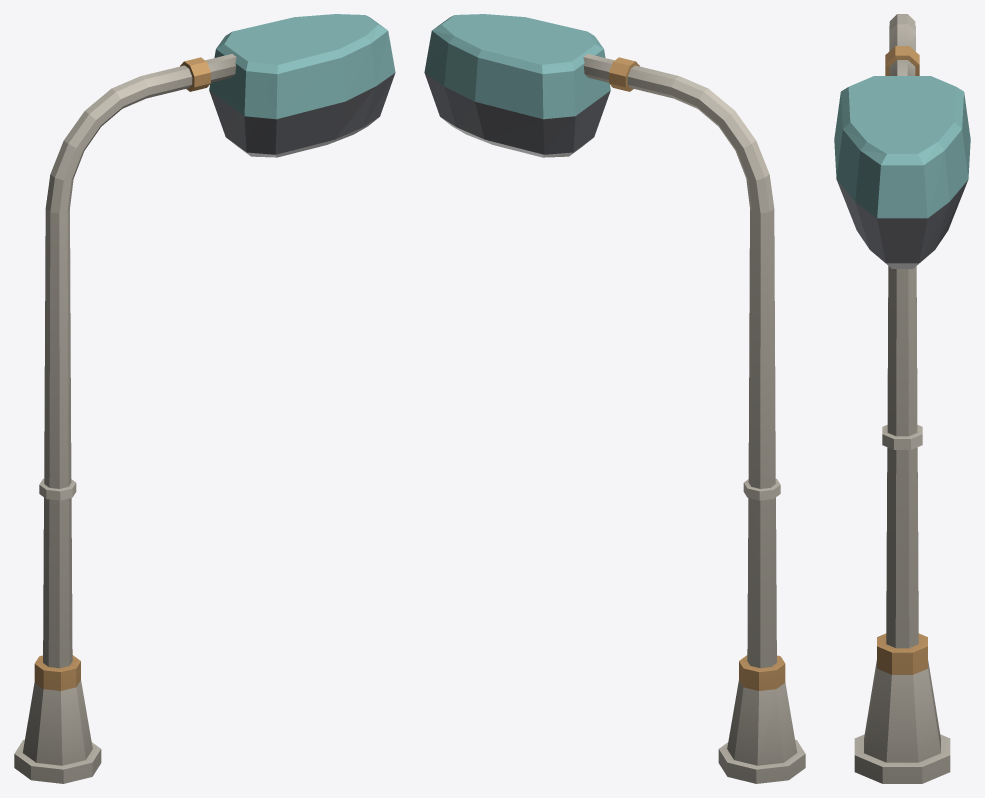
The model's file is lamp.glb.
3 renders of one model, left to right at view 1: azimuth 30°, elevation 25°; view 2: azimuth 150°, elevation 25°; view 3: azimuth 270°, elevation 25°, orthographic. The views are drawn at different scales.
Parts seen in each view (by area): view 1: lamp; view 2: lamp; view 3: lamp.
Part boxes in pixels (<box>): lamp: <box>14,14,395,783</box>; lamp: <box>424,14,805,783</box>; lamp: <box>834,14,970,783</box>.
Bounding box in the file's own units: 2.25 × 3.97 × 0.62.
